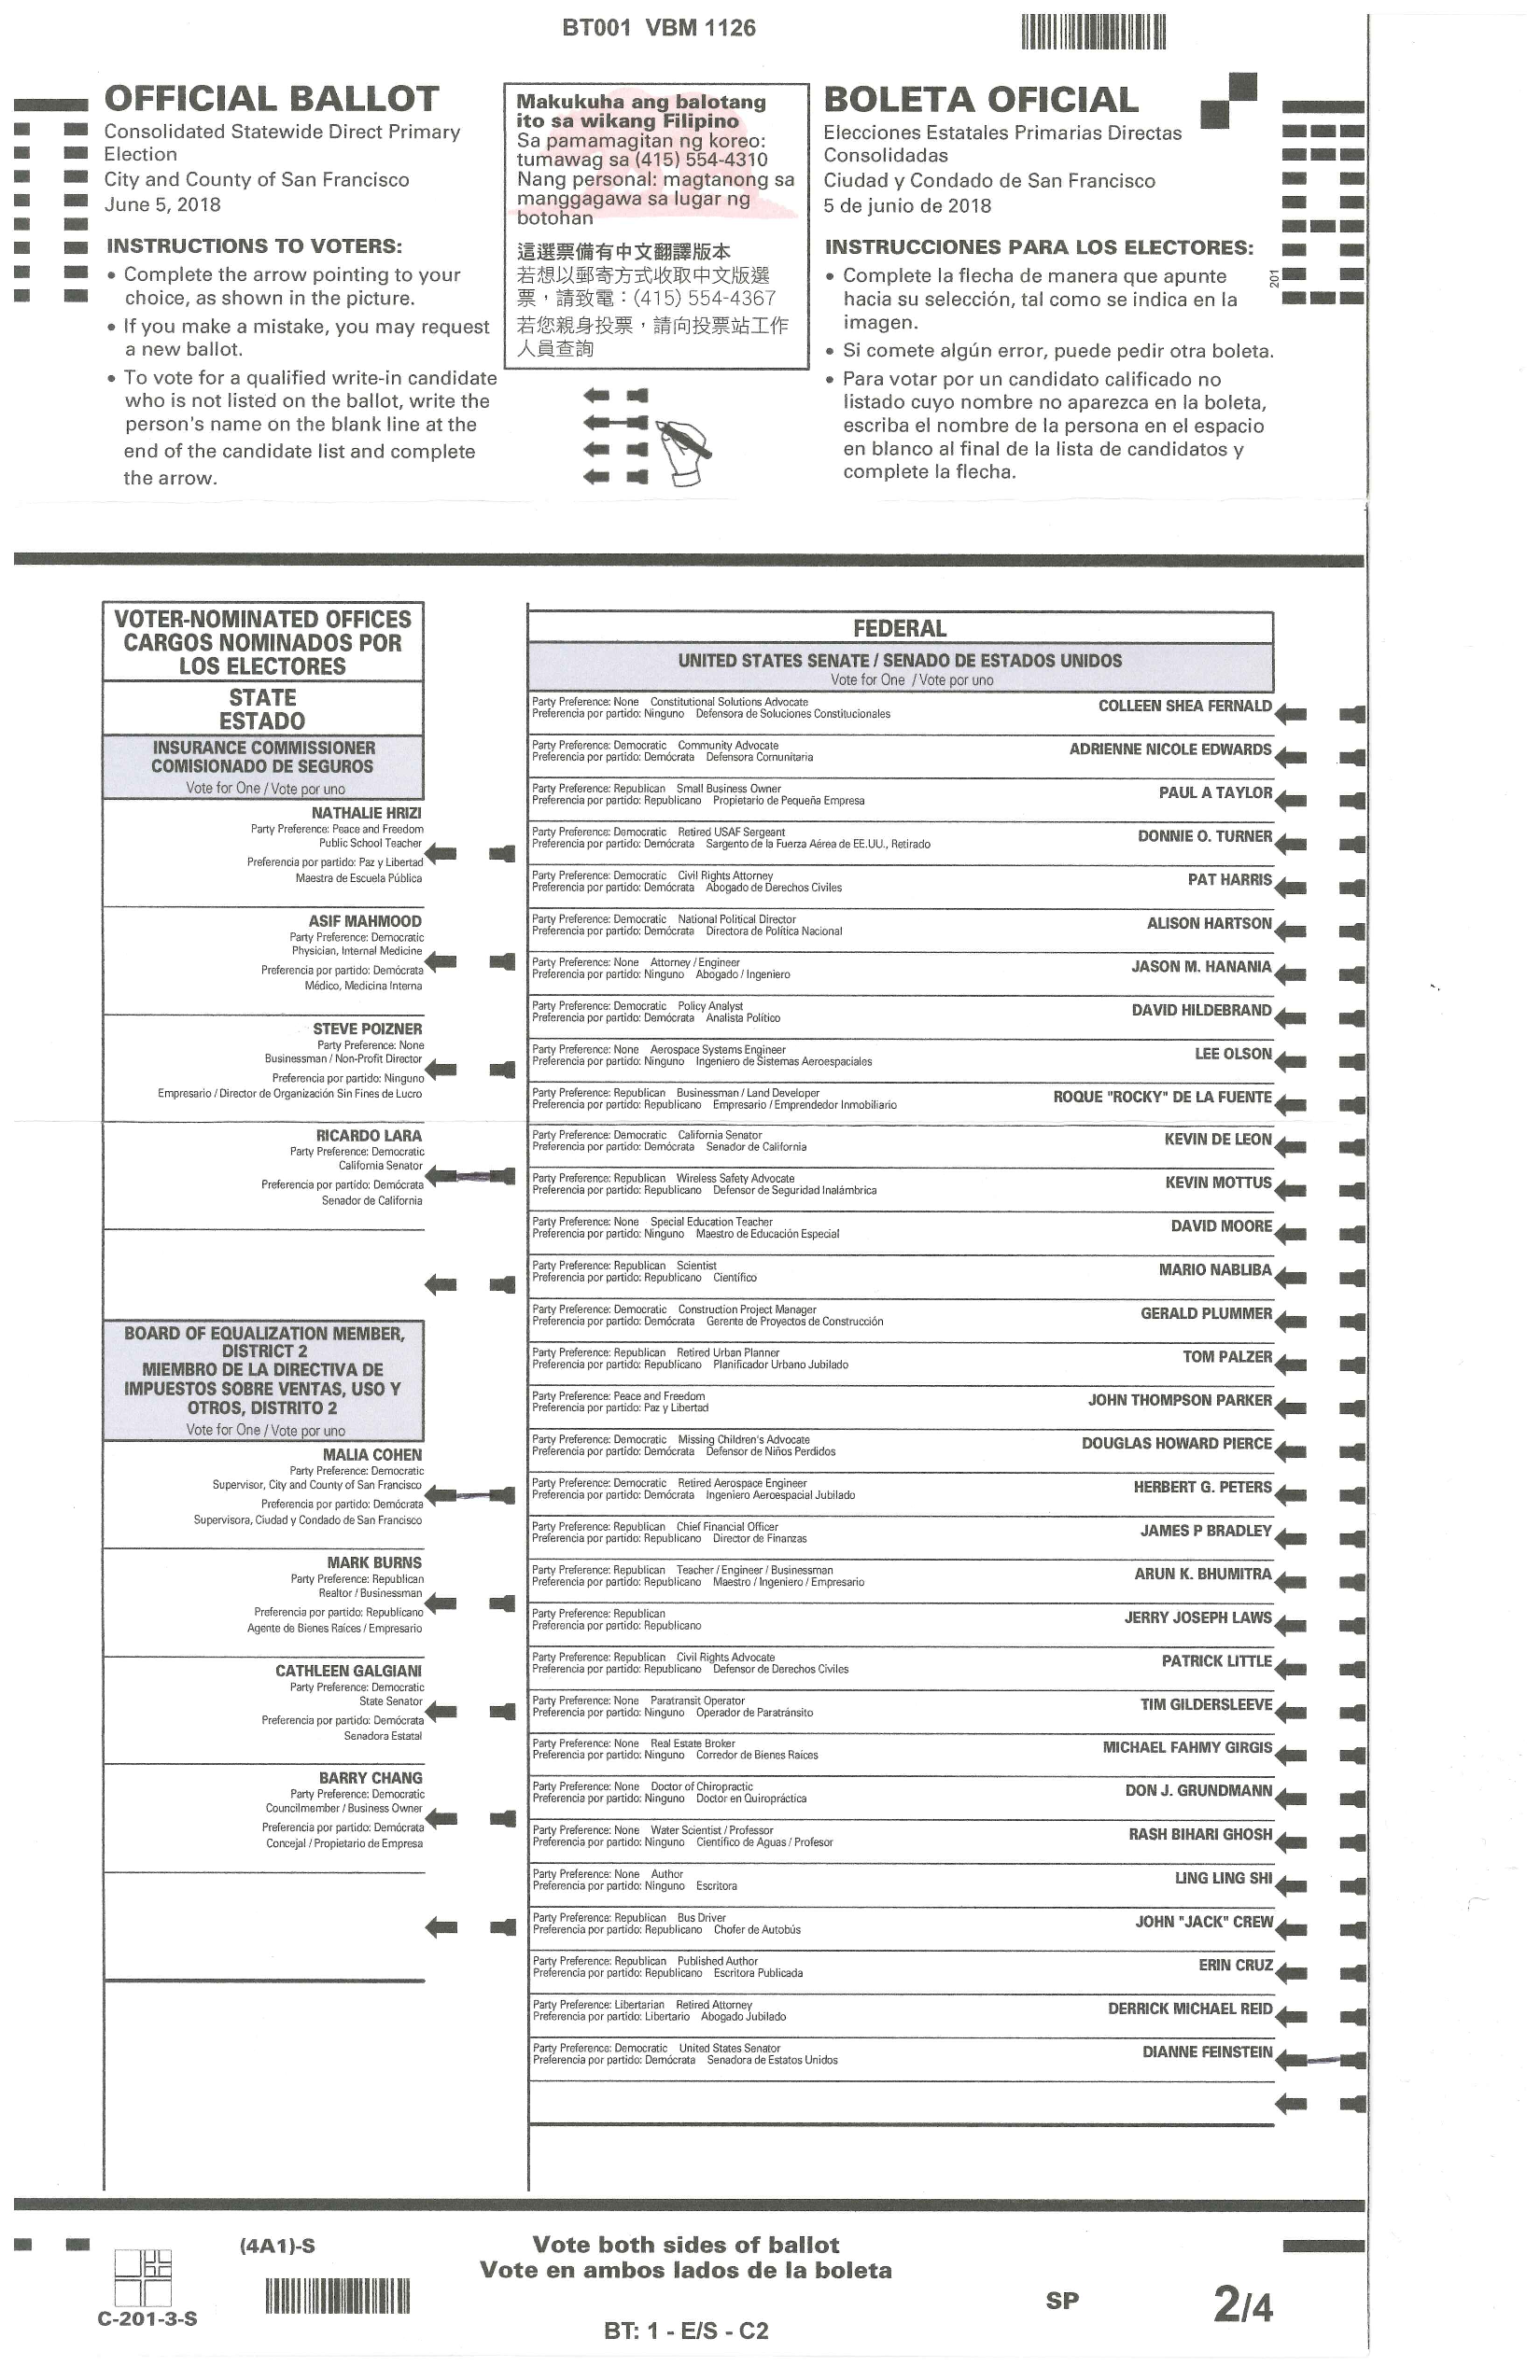marked: (421, 1164, 519, 1193), (423, 1483, 520, 1511), (1273, 2050, 1367, 2071)
unmarked: (421, 1695, 519, 1724), (1273, 1089, 1367, 1119), (1273, 1481, 1367, 1509), (421, 1272, 520, 1298), (1275, 831, 1367, 859), (423, 1915, 520, 1941), (1273, 1919, 1368, 1943), (423, 1058, 517, 1082), (1275, 1785, 1367, 1809), (1273, 1615, 1367, 1638), (1273, 1310, 1367, 1332)
